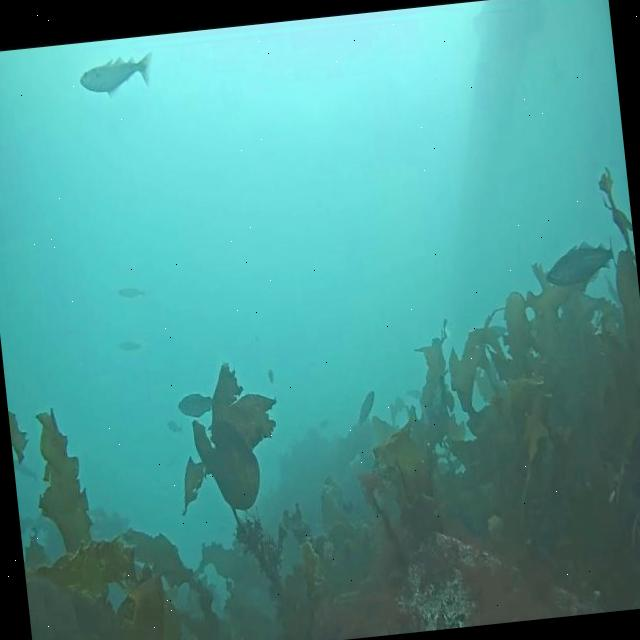fish: (542, 237, 618, 289), (78, 52, 153, 97), (176, 389, 214, 420), (115, 337, 141, 354), (116, 286, 144, 300), (167, 421, 183, 435)
